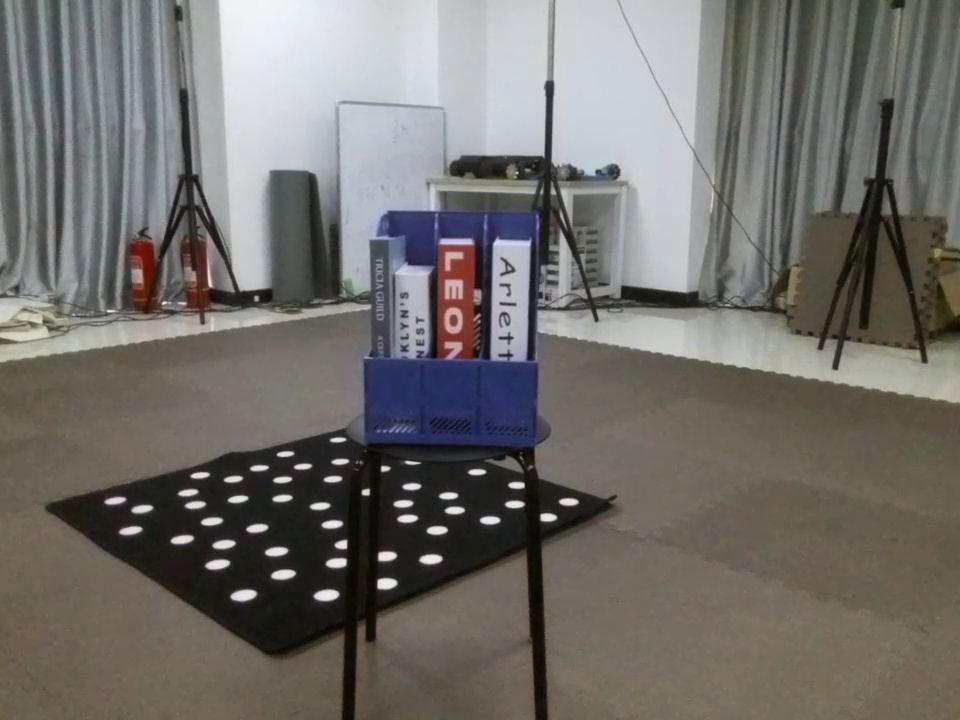files: (355, 199, 547, 448)
